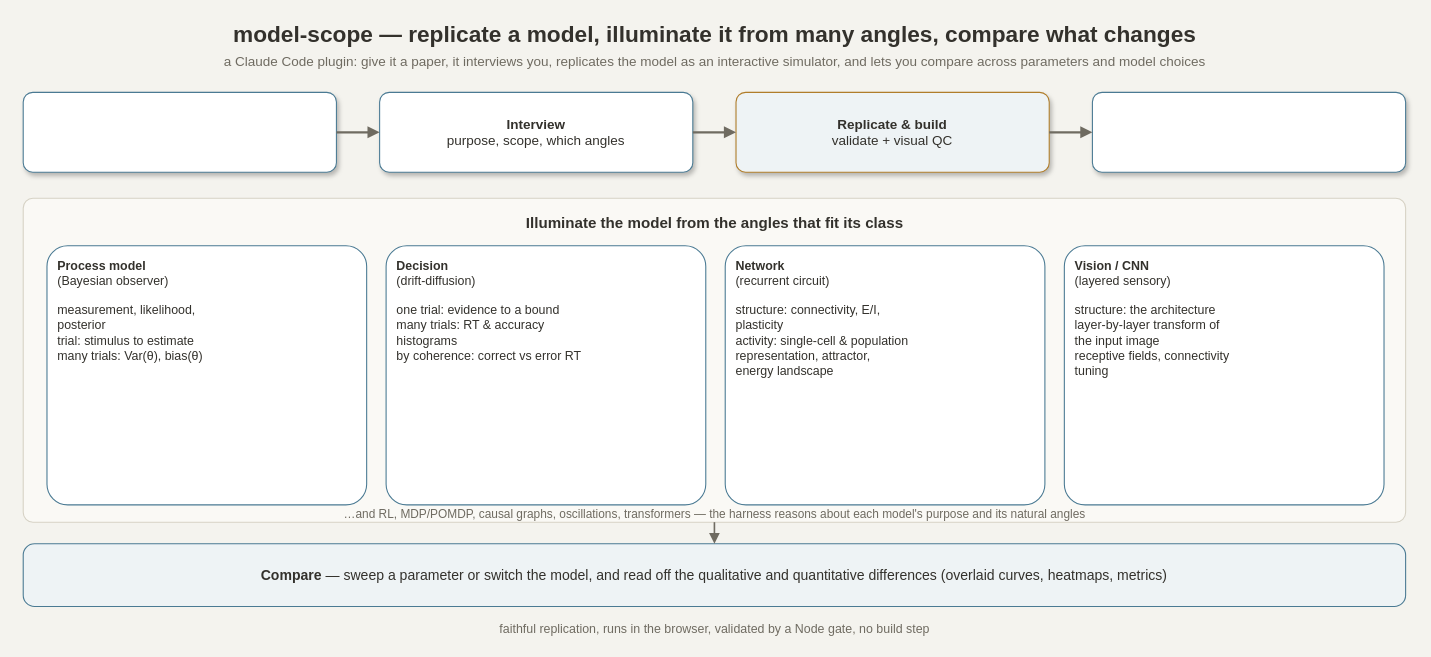
The diagram is 1431 pixels wide and 657 high, and some of its shapes have lost their labels. Here are the shapes that lost their labels. From the top down, the centre of each, then its label:
(180,133): Paper or equations you provide only this
(1249,133): Interactive simulator live sliders and toggles
